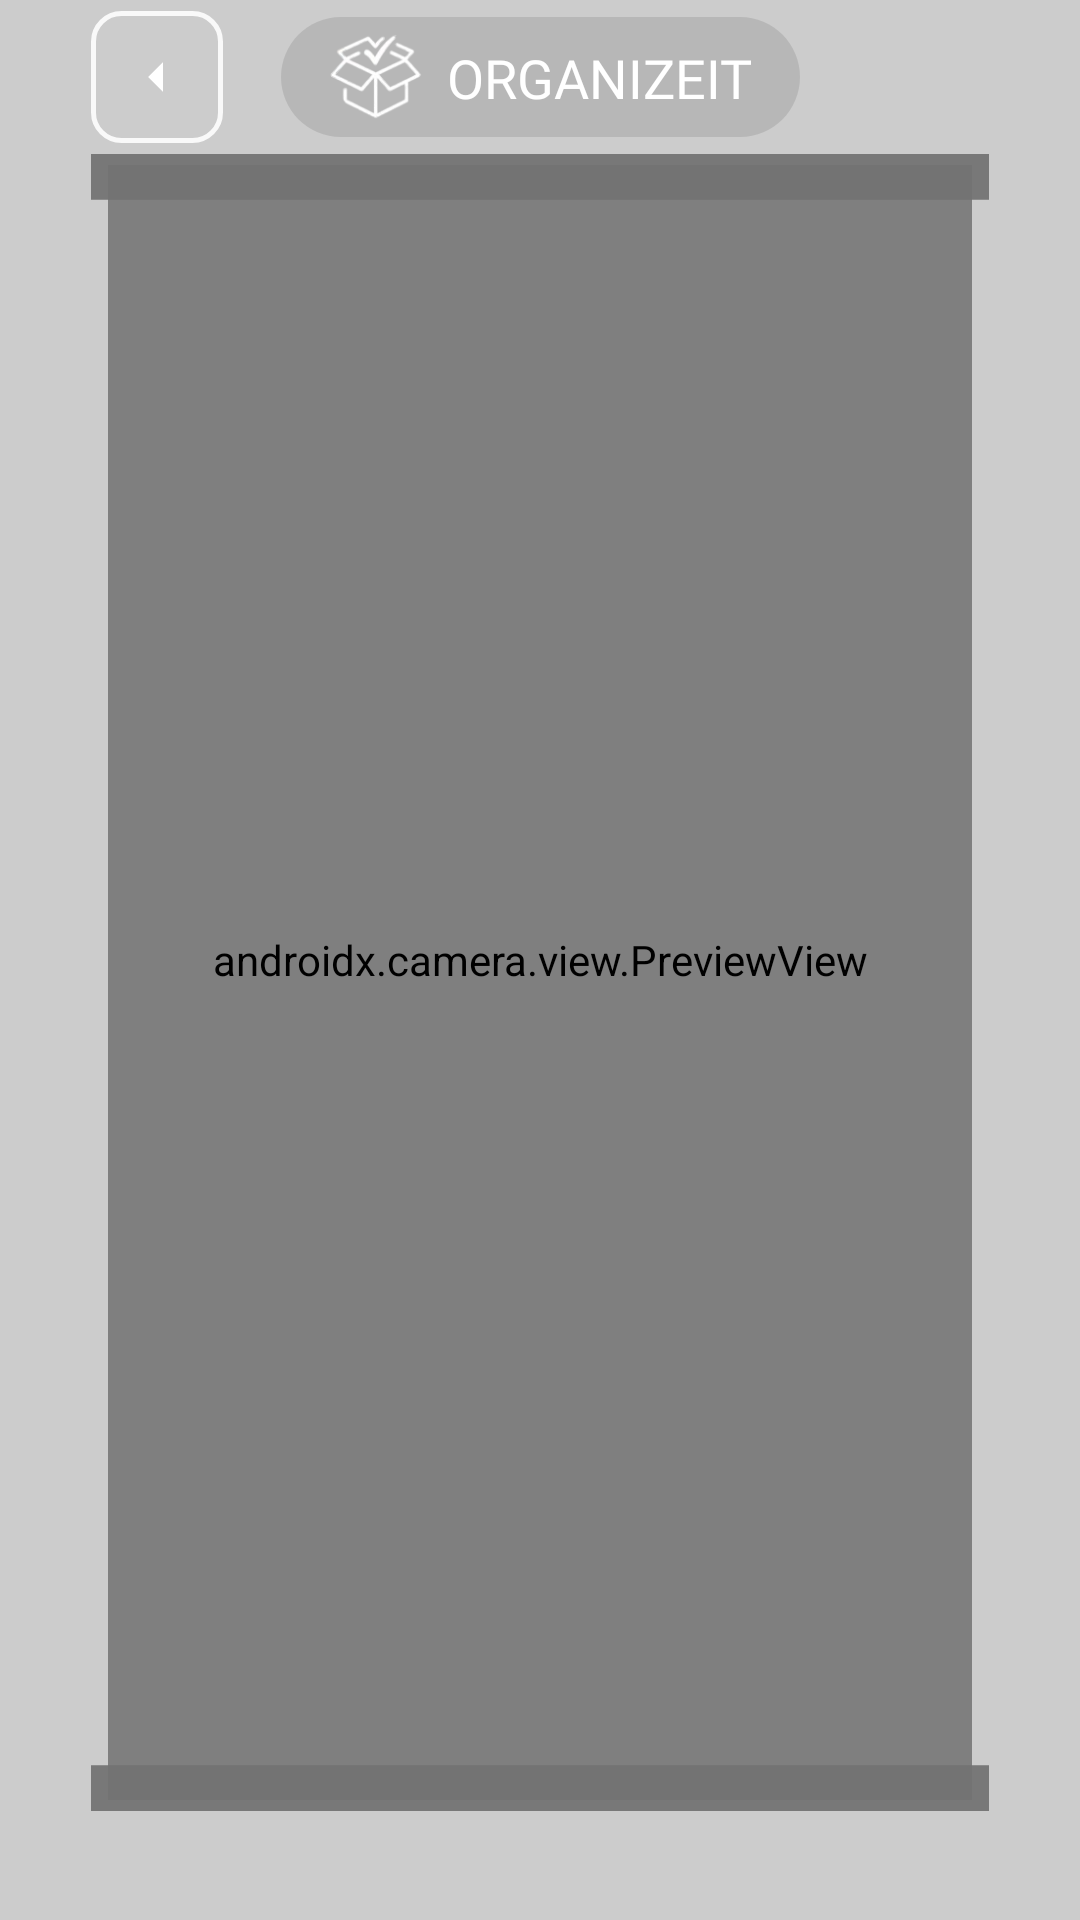

Icons on this 1080*1920 Android screen, each with the point to tap as point (x, y):
back: point (157, 77)
